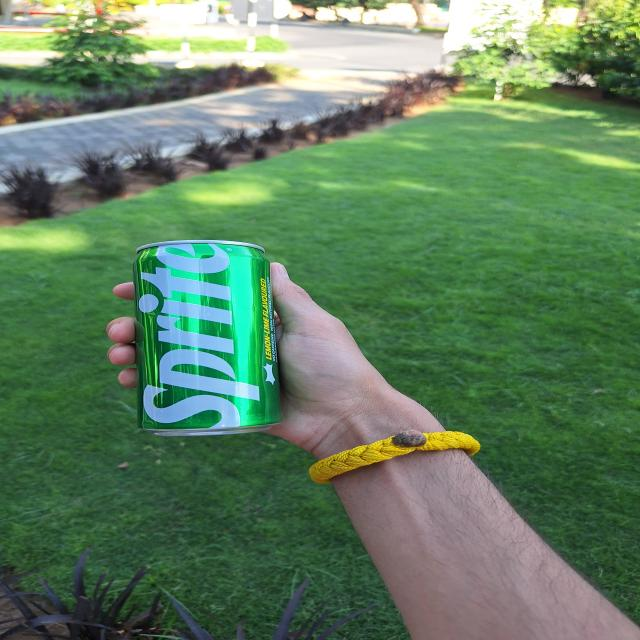Sprite: (137, 235, 266, 438)
